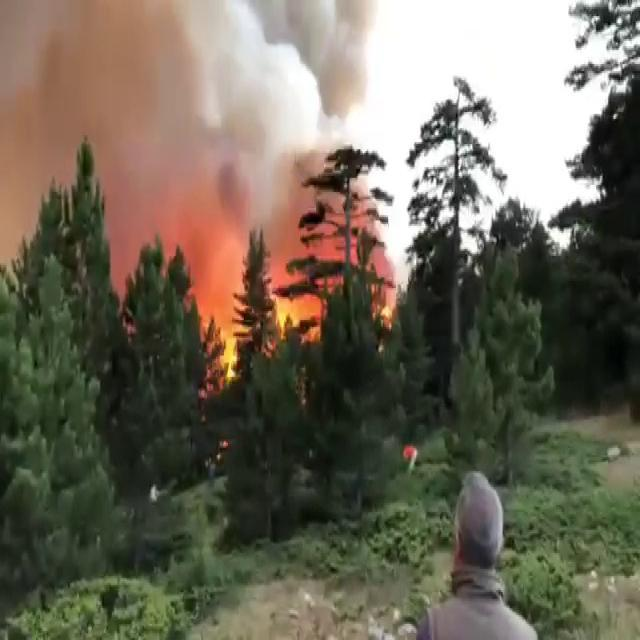Fire: (204, 287, 264, 412), (276, 253, 338, 360), (374, 258, 406, 336)
Smoke: (0, 0, 286, 197), (188, 2, 374, 144)
